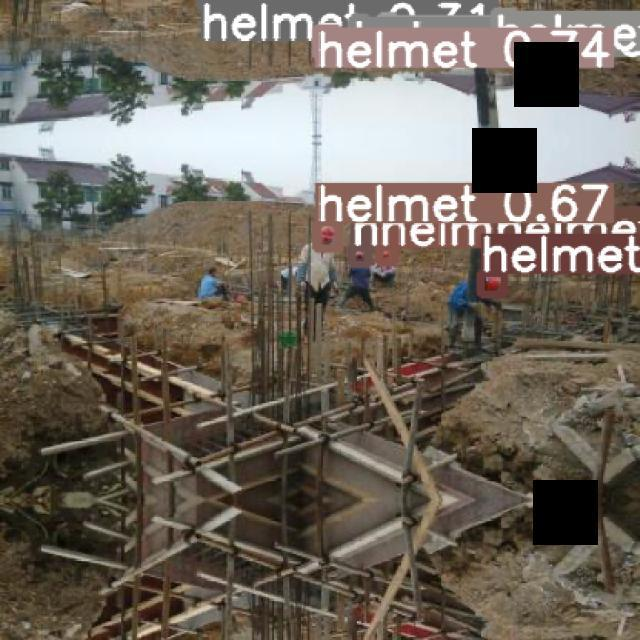helmet: (320, 226, 335, 242), (355, 251, 363, 258), (382, 250, 389, 256)
